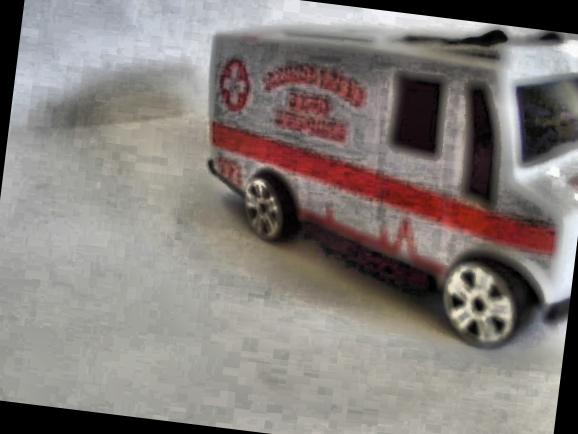ambulance: (180, 0, 578, 357)
